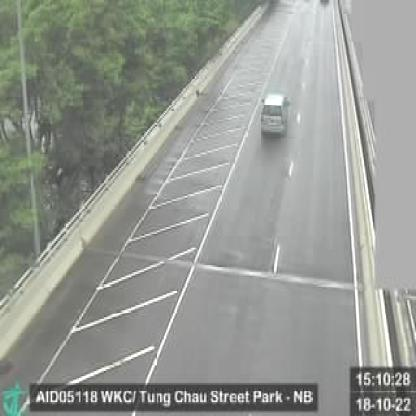Car: (257, 90, 292, 143)
